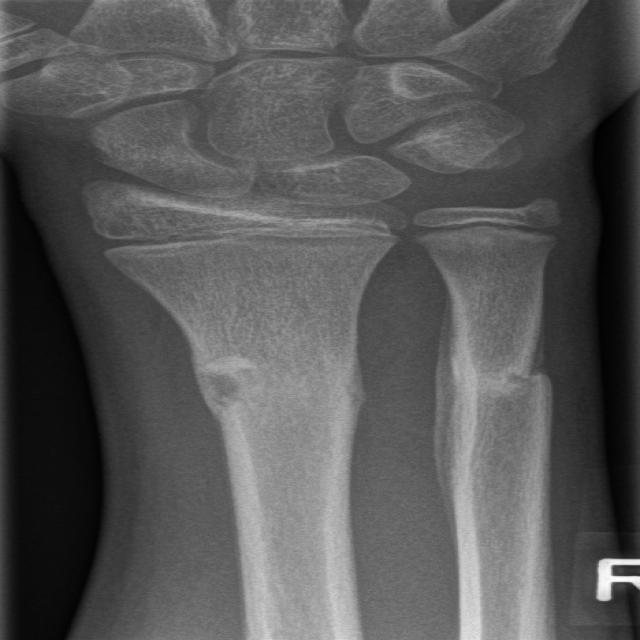radius fracture: (149, 325, 324, 493)
ulna fracture: (398, 323, 580, 505)
